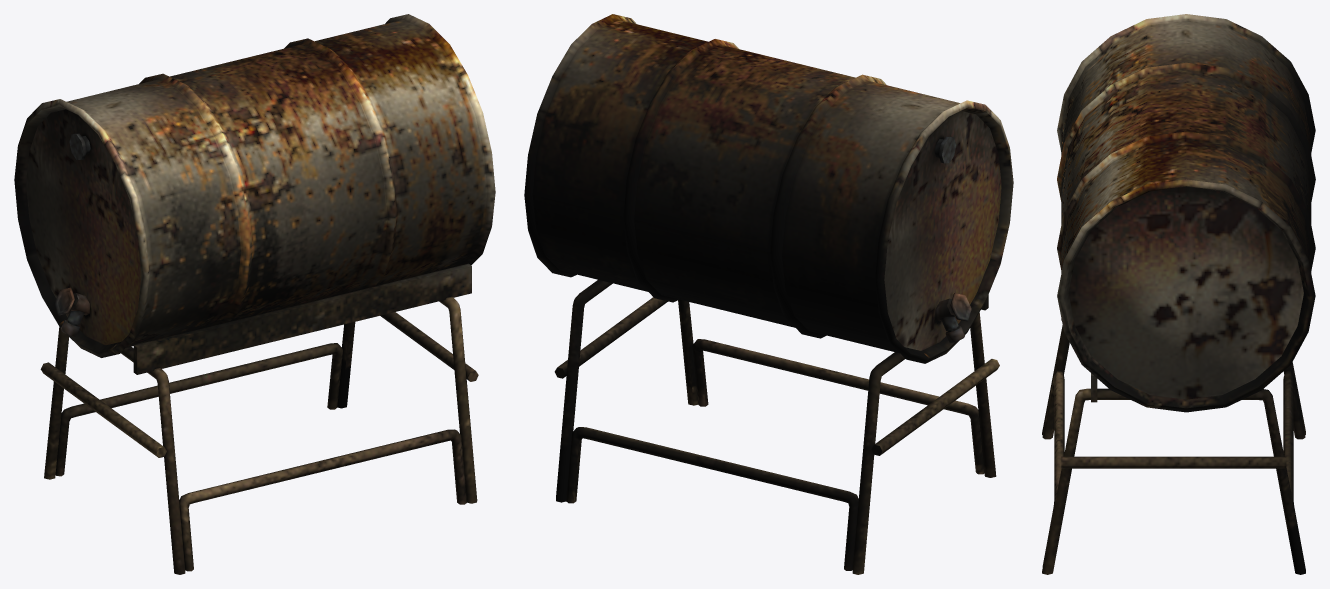
The model's file is Kerosene_Drum.fbx.
3 renders of one model, left to right at view 1: azimuth 30°, elevation 25°; view 2: azimuth 150°, elevation 25°; view 3: azimuth 270°, elevation 25°, orthographic. The views are drawn at different scales.
Visible parts, largest first — view 1: Kerosene_Drum; view 2: Kerosene_Drum; view 3: Kerosene_Drum.
Part boxes in pixels (left/top/right/bottom): Kerosene_Drum: left=14, top=14, right=495, bottom=574; Kerosene_Drum: left=524, top=14, right=1013, bottom=574; Kerosene_Drum: left=1042, top=14, right=1315, bottom=574.
Size of the model in its own units: 2.46 by 2.63 by 1.6.
